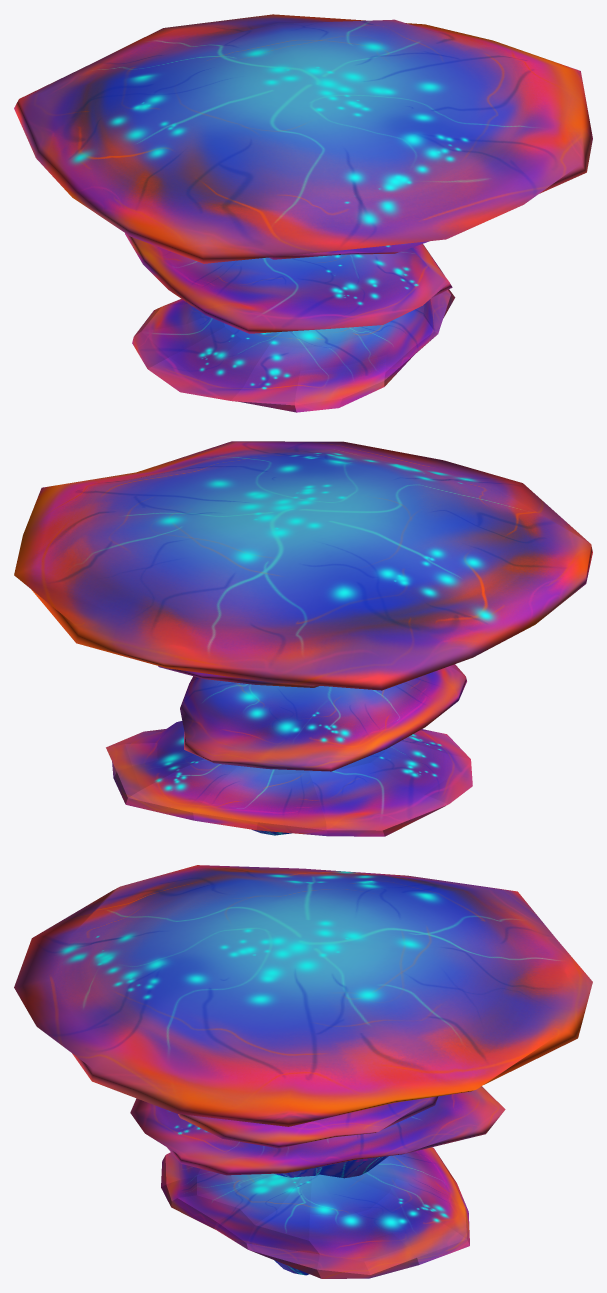
Rendered from NormalShroomNew.FBX.
3 views of the same model, one above another, from view 1: azimuth 30°, elevation 25°; view 2: azimuth 150°, elevation 25°; view 3: azimuth 270°, elevation 25° (orthographic). The views are drawn at different scales.
Visible parts, largest first — view 1: mushroom; view 2: mushroom; view 3: mushroom.
Boxes of the visible parts, <box> form: mushroom: <box>14,14,592,412</box>; mushroom: <box>14,441,592,836</box>; mushroom: <box>14,865,592,1278</box>.
Bounding box in the file's own units: 1.44 × 0.8422 × 1.41.
